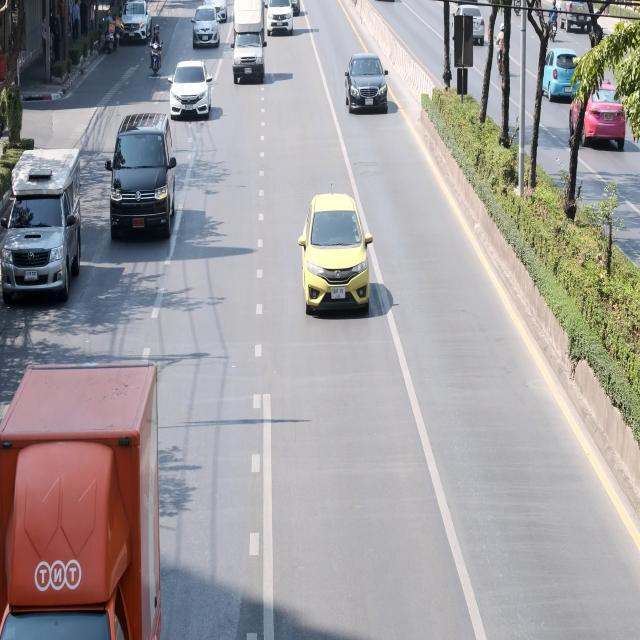cars: (0, 340, 170, 640), (0, 141, 80, 328), (101, 106, 181, 262), (298, 183, 372, 329), (340, 41, 396, 140), (563, 77, 635, 152), (523, 36, 592, 114), (224, 4, 270, 96), (164, 56, 214, 140), (452, 3, 490, 58), (561, 0, 603, 41), (188, 6, 224, 48), (263, 0, 296, 45), (118, 0, 149, 40), (200, 0, 232, 22)
motorcycle: (145, 18, 167, 86), (490, 27, 510, 84), (545, 0, 560, 43)
